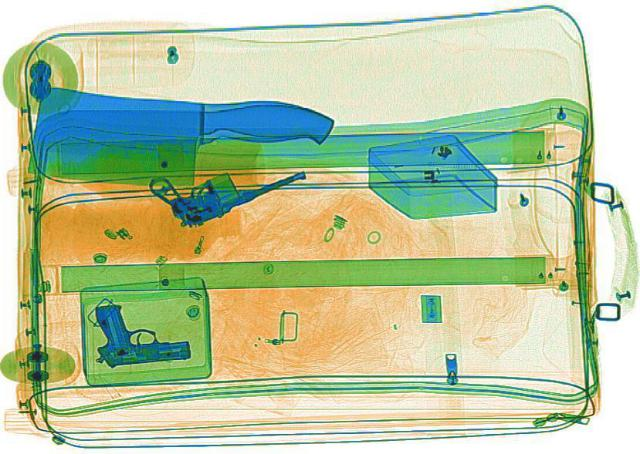Gun: (144, 132, 320, 230), (80, 294, 194, 367)
Knife: (26, 78, 338, 169), (27, 101, 336, 182)
